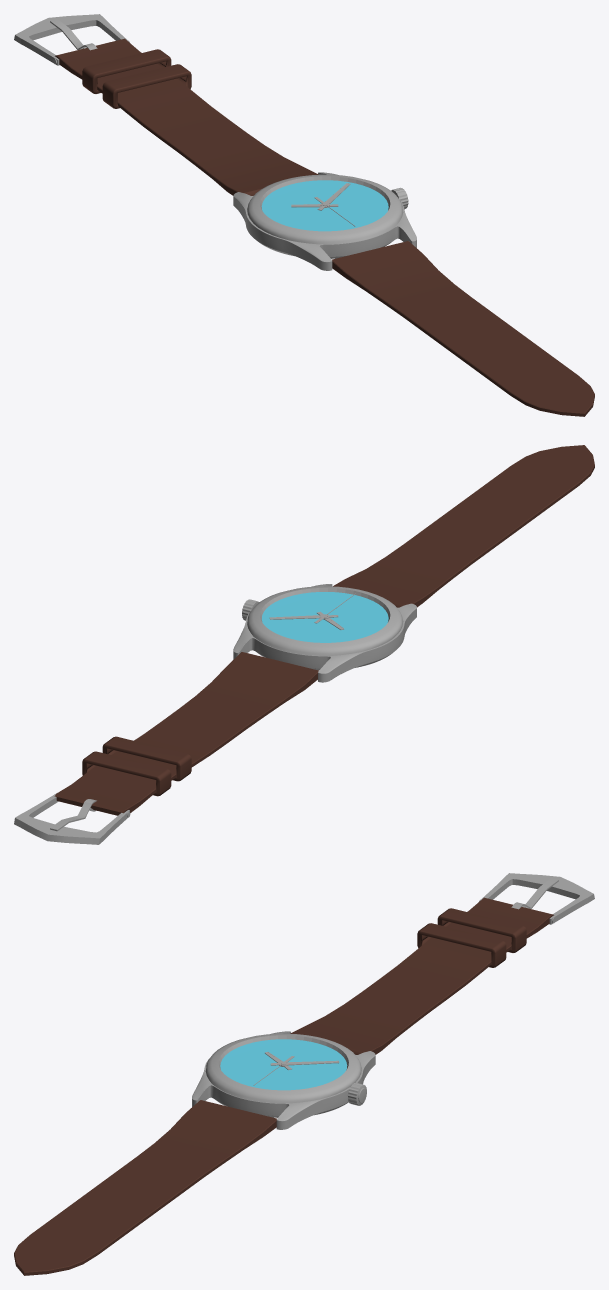
The model's file is watchUV.fbx.
3 views of the same model, one above another, from view 1: azimuth 30°, elevation 25°; view 2: azimuth 150°, elevation 25°; view 3: azimuth 330°, elevation 25° (orthographic).
Parts seen in each view (by area): view 1: polySurface1, polySurface2, polySurface8, polySurface9, polySurface36, pCube7, pCube6; view 2: polySurface1, polySurface2, polySurface8, polySurface9, polySurface36, pCube6, pCube7; view 3: polySurface1, polySurface2, polySurface8, polySurface9, polySurface36, pCube7, pCube6.
Boxes of the visible parts, left/top/right/bottom form: polySurface1: left=332, top=241, right=594, bottom=416; polySurface2: left=55, top=38, right=318, bottom=195; polySurface8: left=247, top=174, right=403, bottom=244; polySurface9: left=233, top=172, right=416, bottom=270; polySurface36: left=14, top=14, right=129, bottom=65; pCube7: left=102, top=64, right=191, bottom=108; pCube6: left=82, top=49, right=171, bottom=93; polySurface1: left=333, top=445, right=594, bottom=607; polySurface2: left=54, top=652, right=318, bottom=815; polySurface8: left=247, top=586, right=403, bottom=655; polySurface9: left=233, top=584, right=416, bottom=682; polySurface36: left=14, top=793, right=129, bottom=844; pCube6: left=82, top=751, right=171, bottom=796; pCube7: left=102, top=736, right=191, bottom=781; polySurface1: left=14, top=1100, right=276, bottom=1275; polySurface2: left=290, top=897, right=553, bottom=1054; polySurface8: left=205, top=1033, right=361, bottom=1103; polySurface9: left=192, top=1031, right=375, bottom=1129; polySurface36: left=479, top=873, right=594, bottom=924; pCube7: left=417, top=923, right=506, bottom=967; pCube6: left=437, top=908, right=526, bottom=952.
Size of the model in its own units: 2.2 by 0.3427 by 13.77.
